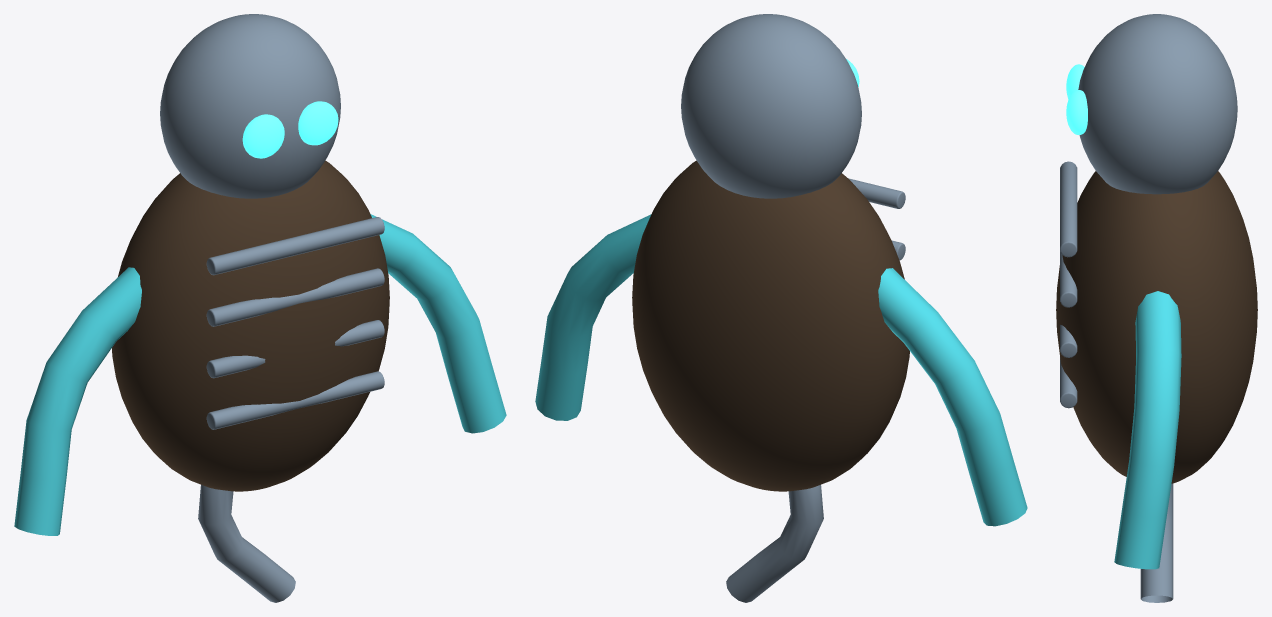
File: undead_v6.glb
3 renders of one model, left to right at view 1: azimuth 30°, elevation 25°; view 2: azimuth 150°, elevation 25°; view 3: azimuth 270°, elevation 25°, orthographic. The views are drawn at different scales.
Parts seen in each view (by area): view 1: CRAWLER_TORSO_SECONDARY, CRAWLER_SKULL_PRIMARY, CRAWLER_ARM_ACCENT, CRAWLER_ARM_ACCENT.001, SPINE_TAIL_PRIMARY, EXPOSED_RIB_PRIMARY.003, EXPOSED_RIB_PRIMARY.002, EXPOSED_RIB_PRIMARY, EXPOSED_RIB_PRIMARY.001, EYE_EMISSIVE, EYE_EMISSIVE.001; view 2: CRAWLER_TORSO_SECONDARY, CRAWLER_SKULL_PRIMARY, CRAWLER_ARM_ACCENT, CRAWLER_ARM_ACCENT.001, SPINE_TAIL_PRIMARY, EXPOSED_RIB_PRIMARY.003; view 3: CRAWLER_TORSO_SECONDARY, CRAWLER_SKULL_PRIMARY, CRAWLER_ARM_ACCENT.001, SPINE_TAIL_PRIMARY, EXPOSED_RIB_PRIMARY.003, EYE_EMISSIVE.001, EXPOSED_RIB_PRIMARY.002, EXPOSED_RIB_PRIMARY, EXPOSED_RIB_PRIMARY.001, EYE_EMISSIVE.
Boxes of the visible parts, <box> form: CRAWLER_TORSO_SECONDARY: <box>112,160,389,491</box>; CRAWLER_SKULL_PRIMARY: <box>160,14,340,198</box>; CRAWLER_ARM_ACCENT: <box>14,267,141,535</box>; CRAWLER_ARM_ACCENT.001: <box>370,214,506,433</box>; SPINE_TAIL_PRIMARY: <box>198,484,295,602</box>; EXPOSED_RIB_PRIMARY.003: <box>206,217,384,275</box>; EXPOSED_RIB_PRIMARY.002: <box>206,268,384,326</box>; EXPOSED_RIB_PRIMARY: <box>206,371,384,429</box>; EXPOSED_RIB_PRIMARY.001: <box>206,320,384,378</box>; EYE_EMISSIVE: <box>242,114,284,158</box>; EYE_EMISSIVE.001: <box>298,101,338,145</box>; CRAWLER_TORSO_SECONDARY: <box>632,160,909,491</box>; CRAWLER_SKULL_PRIMARY: <box>681,14,861,198</box>; CRAWLER_ARM_ACCENT: <box>878,268,1027,526</box>; CRAWLER_ARM_ACCENT.001: <box>535,214,651,420</box>; SPINE_TAIL_PRIMARY: <box>726,485,823,602</box>; EXPOSED_RIB_PRIMARY.003: <box>848,178,905,208</box>; CRAWLER_TORSO_SECONDARY: <box>1056,171,1257,483</box>; CRAWLER_SKULL_PRIMARY: <box>1078,14,1237,194</box>; CRAWLER_ARM_ACCENT.001: <box>1114,291,1181,569</box>; SPINE_TAIL_PRIMARY: <box>1140,483,1173,602</box>; EXPOSED_RIB_PRIMARY.003: <box>1060,161,1077,257</box>; EYE_EMISSIVE.001: <box>1066,90,1087,134</box>; EXPOSED_RIB_PRIMARY.002: <box>1060,251,1077,307</box>; EXPOSED_RIB_PRIMARY: <box>1060,357,1077,408</box>; EXPOSED_RIB_PRIMARY.001: <box>1060,325,1077,357</box>; EYE_EMISSIVE: <box>1066,64,1084,99</box>.
Size of the model in its own units: 2.17 by 2.5 by 0.8.
